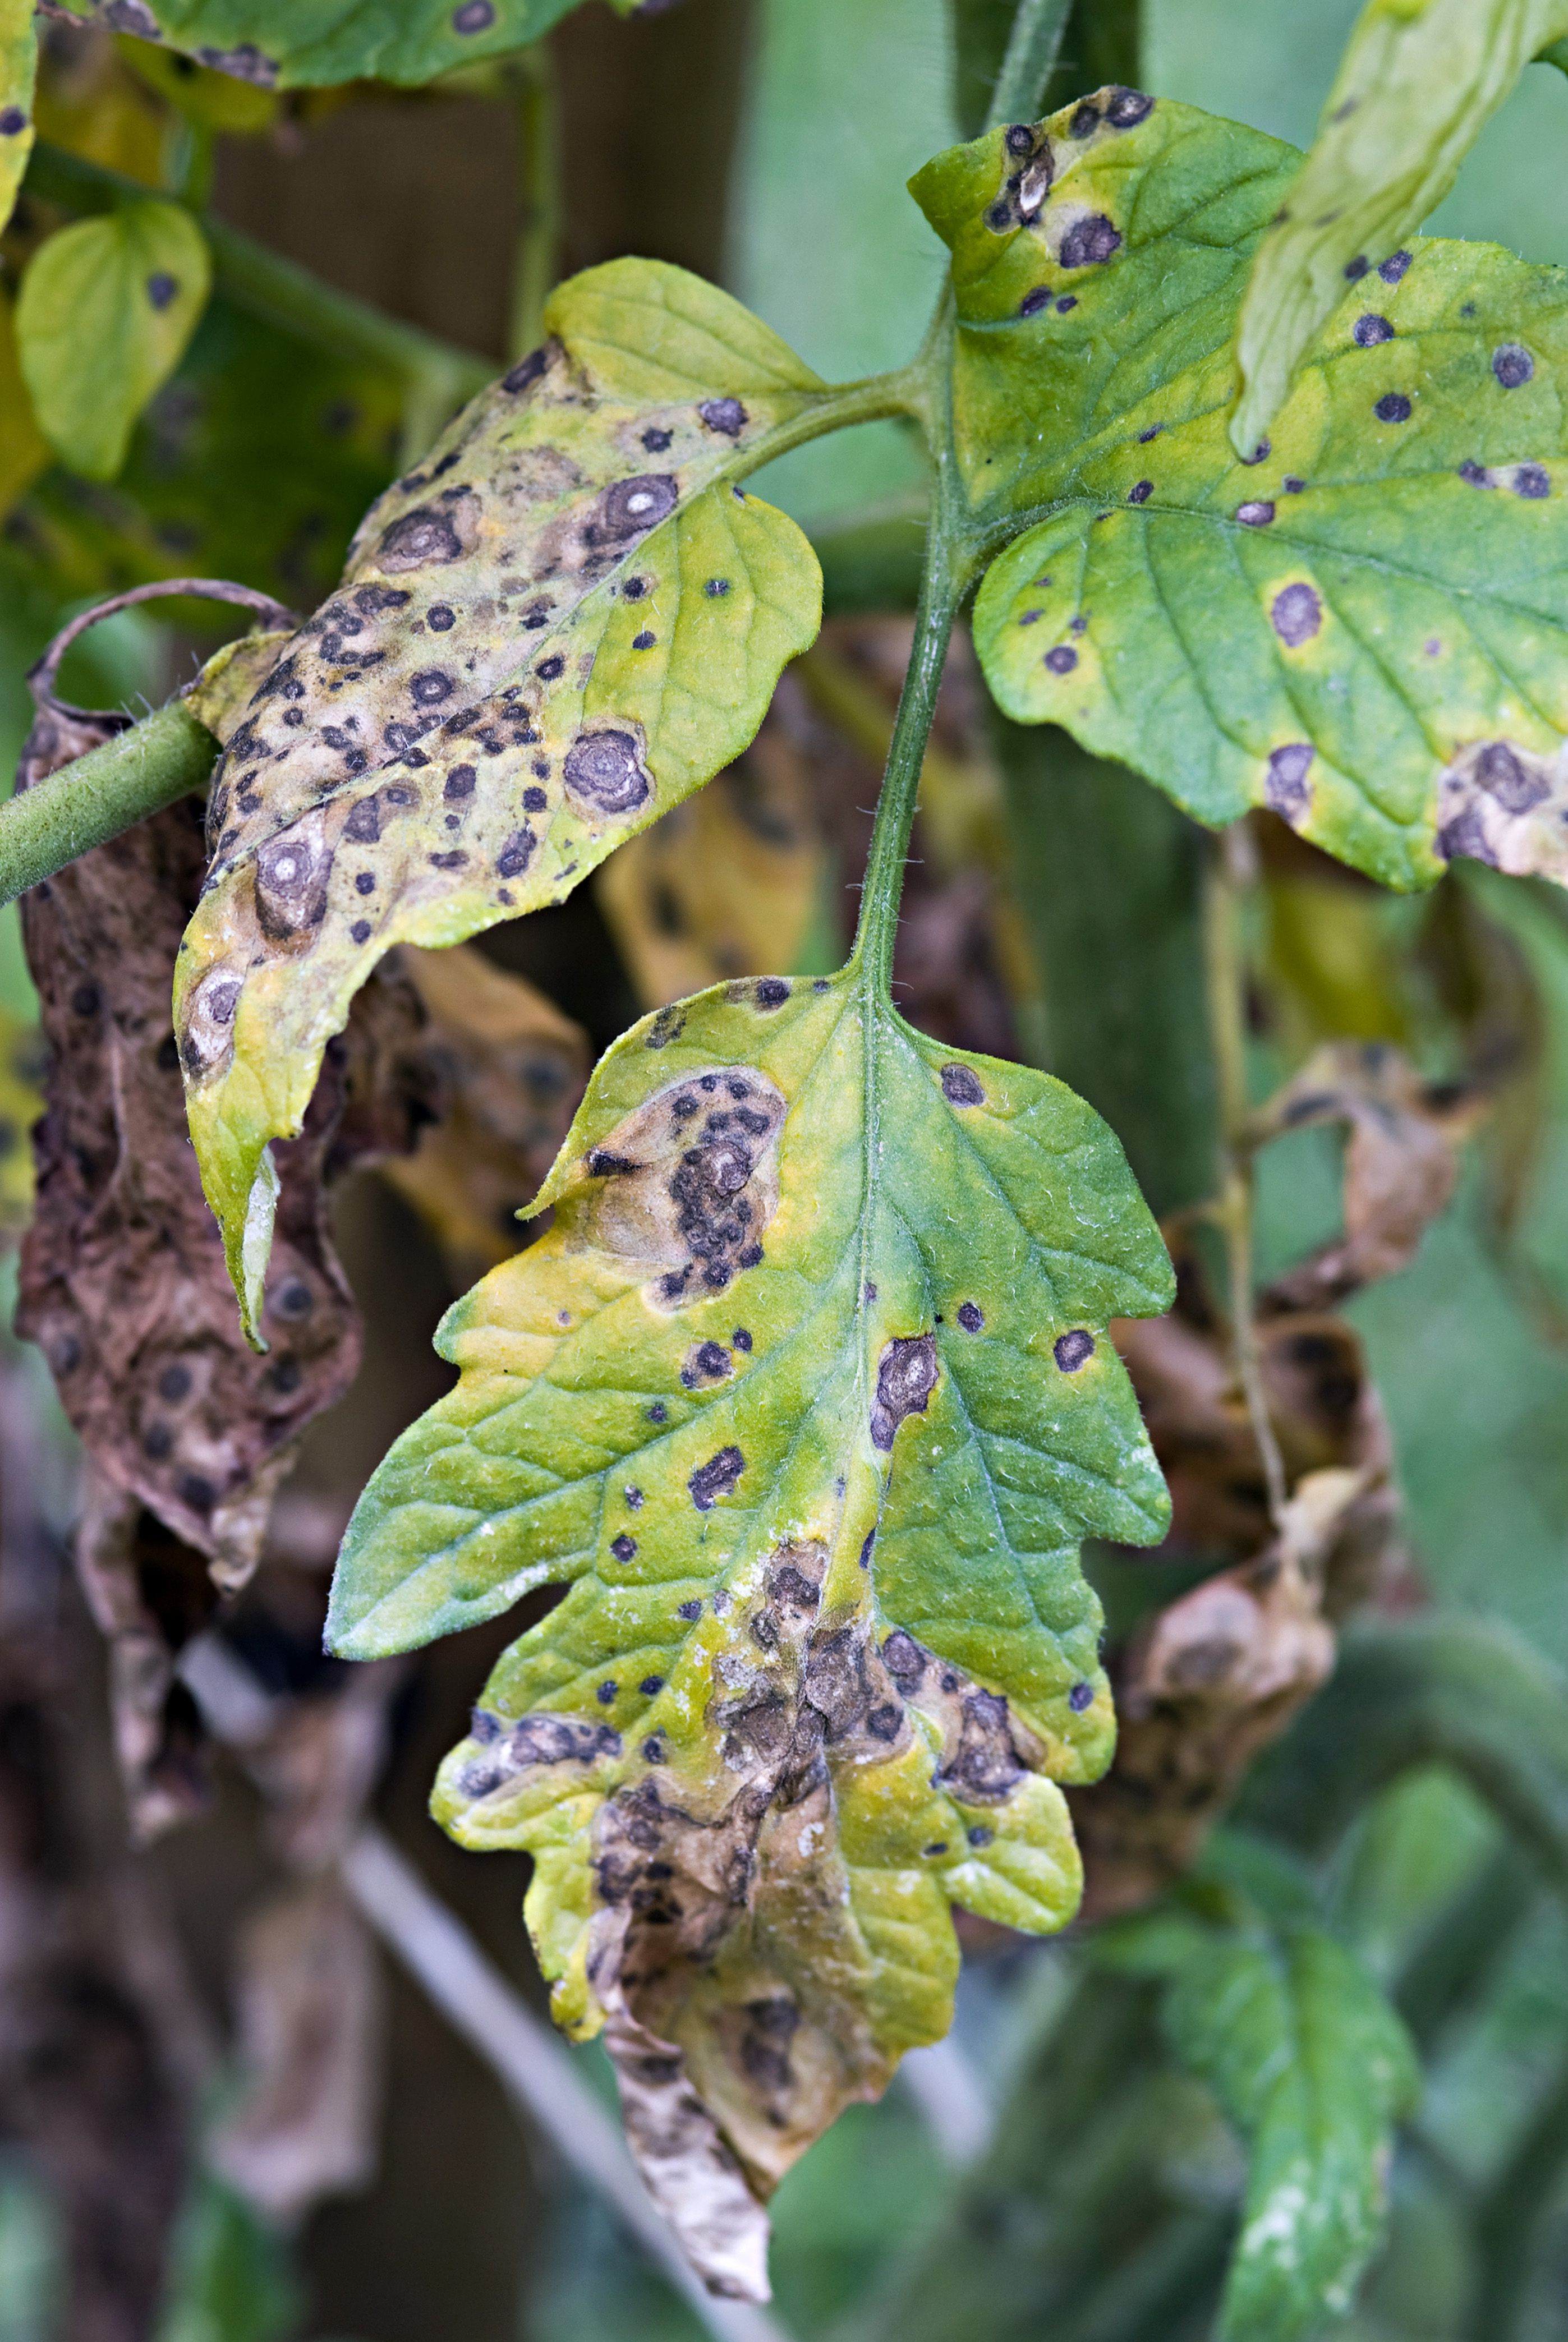unhealthy: (434, 971, 1160, 2188), (887, 115, 1526, 929), (185, 322, 821, 1037)
